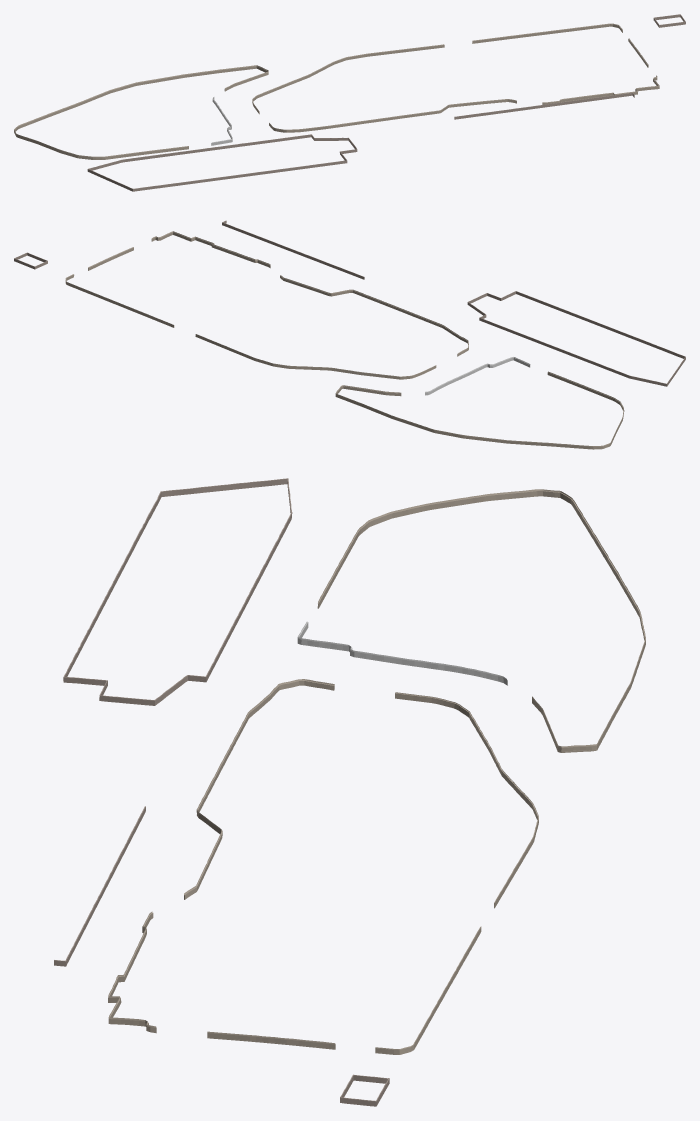
File: s_island_refinery_fencing.dae
3 views of the same model, one above another, from view 1: azimuth 30°, elevation 25°; view 2: azimuth 150°, elevation 25°; view 3: azimuth 270°, elevation 25° (orthographic). The views are drawn at different scales.
Visible parts, largest first — view 1: Colmesh-1, refinery_fencing_a200; view 2: Colmesh-1, refinery_fencing_a200; view 3: Colmesh-1, refinery_fencing_a200.
Boxes of the visible parts, x1=… form: Colmesh-1: x1=14, y1=14, x2=685, y2=191; refinery_fencing_a200: x1=14, y1=22, x2=685, y2=190; Colmesh-1: x1=14, y1=220, x2=685, y2=449; refinery_fencing_a200: x1=15, y1=224, x2=683, y2=448; Colmesh-1: x1=54, y1=478, x2=645, y2=1106; refinery_fencing_a200: x1=55, y1=489, x2=645, y2=1106.
Size of the model in its own units: 460 by 190 by 11.5.
